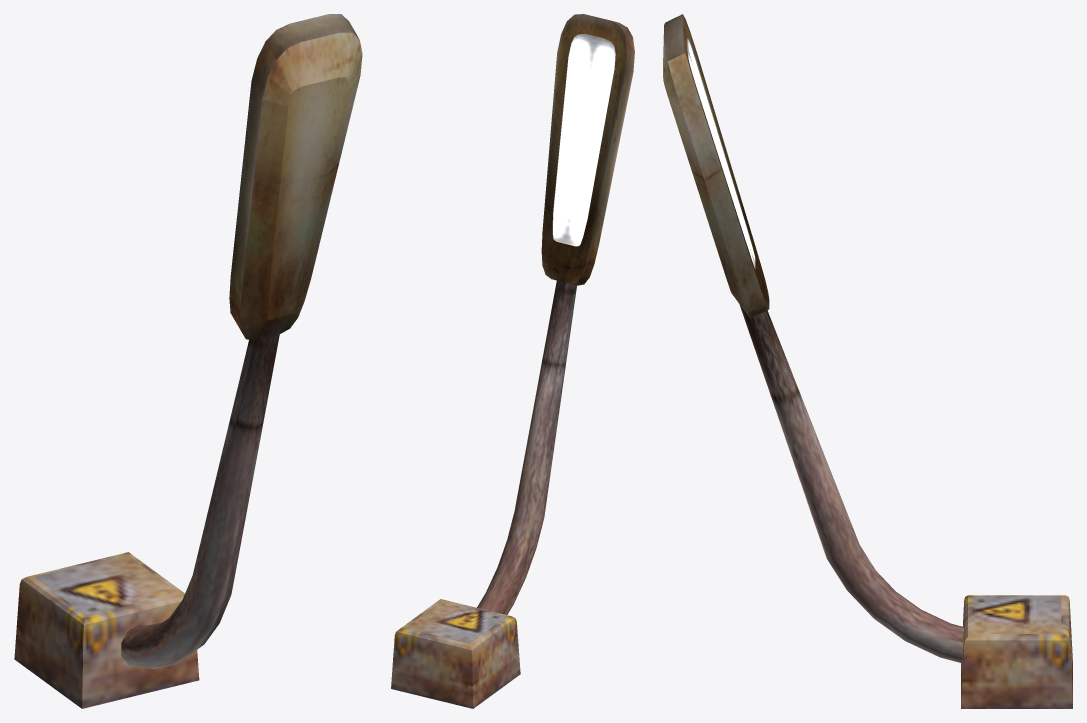
The model's file is LampPostSmall_Wall_ALL.FBX.
3 views of the same model, side by side, from view 1: azimuth 30°, elevation 25°; view 2: azimuth 150°, elevation 25°; view 3: azimuth 270°, elevation 25° (orthographic). The views are drawn at different scales.
Parts seen in each view (by area): view 1: StreetLampSmall_LOD0; view 2: StreetLampSmall_LOD0, Source; view 3: StreetLampSmall_LOD0, Source.
Boxes of the visible parts, left/top/right/bottom form: StreetLampSmall_LOD0: left=14, top=14, right=362, bottom=708; StreetLampSmall_LOD0: left=391, top=14, right=634, bottom=708; Source: left=553, top=34, right=615, bottom=246; StreetLampSmall_LOD0: left=663, top=14, right=1072, bottom=708; Source: left=687, top=38, right=755, bottom=268.
Size of what is drawn, in the model's own units: 308 by 2006 by 1127.
